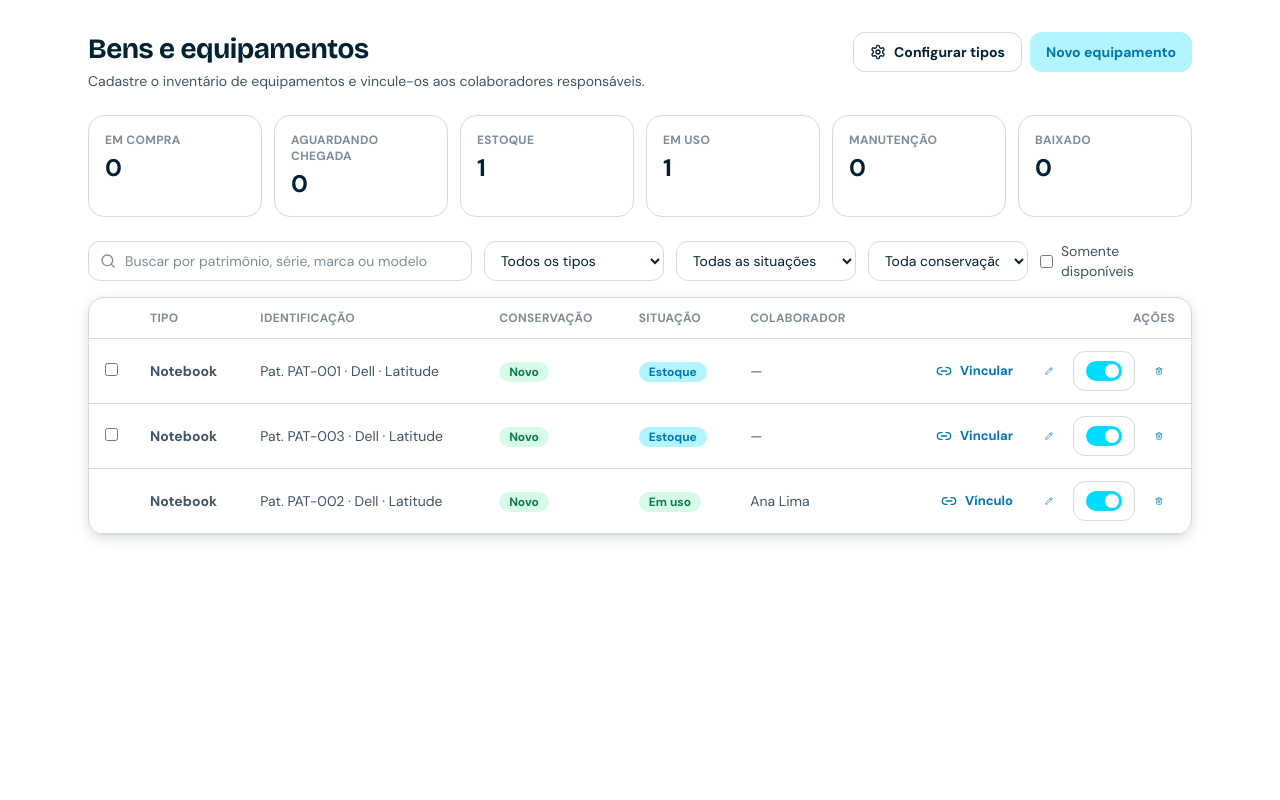
Scenario: PatrimonioPage › vincula vários equipamentos selecionados de uma vez com um único termo
The width and height of the screenshot is (1280, 800).
Click the checkbox named "Selecionar Notebook" in the row of "Pat. PAT-001 · Dell · Latitude" at point(112, 370), box [105,363,118,376]
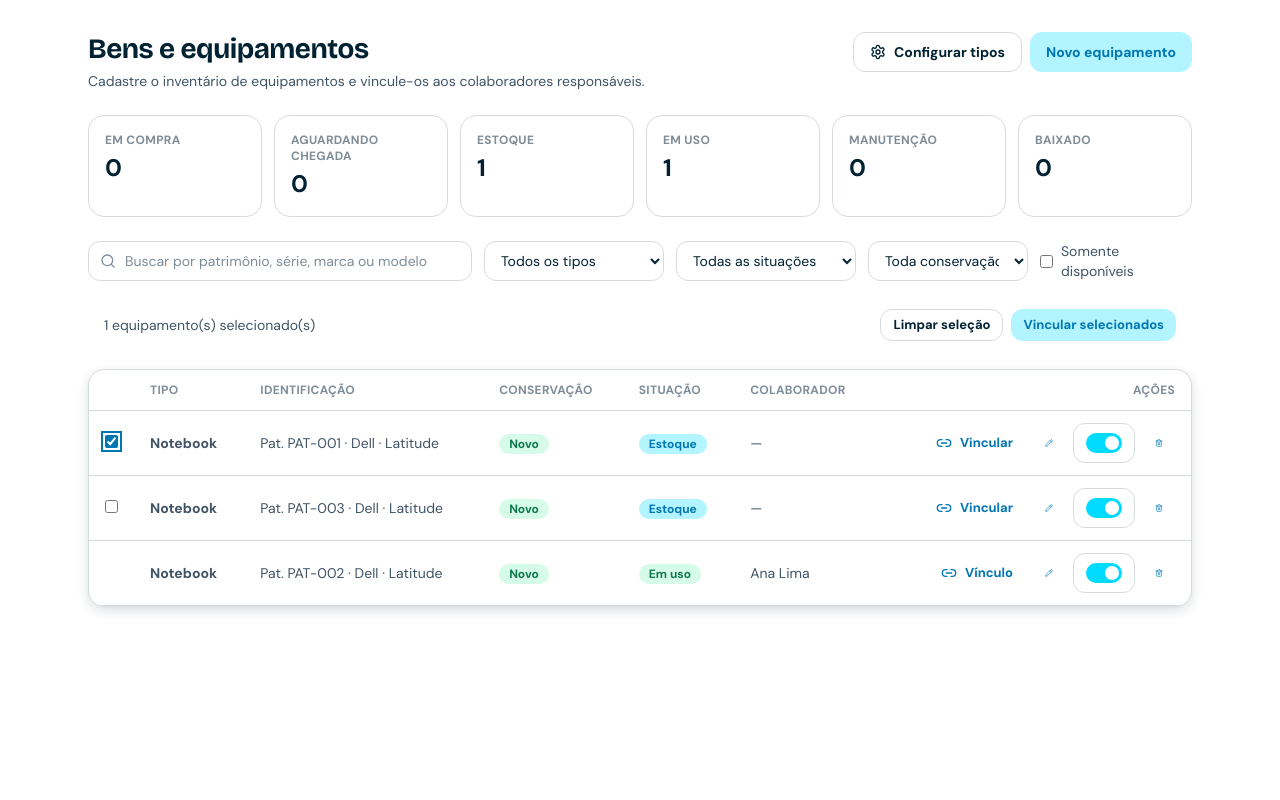
Click the checkbox named "Selecionar Notebook" in the row of "Pat. PAT-003 · Dell · Latitude" at point(112, 506), box [105,500,118,513]
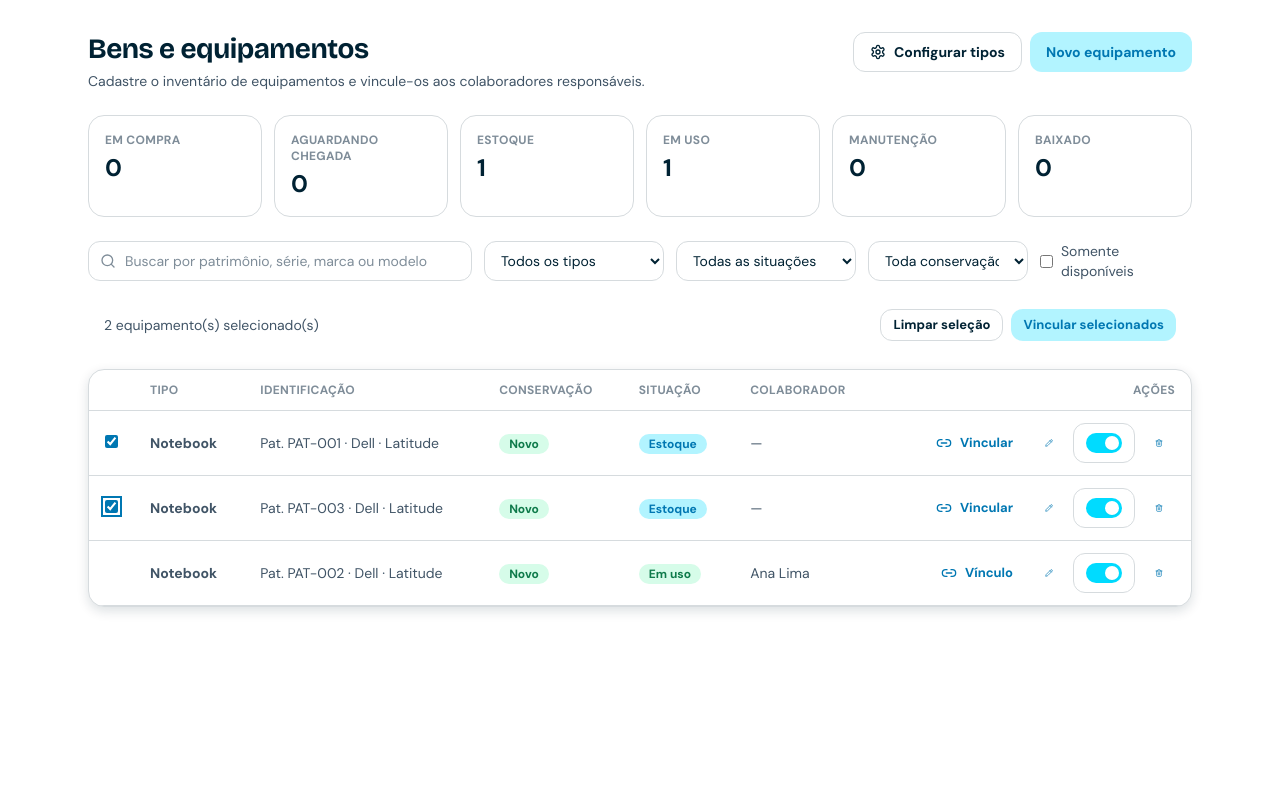
Click the button "Vincular selecionados" at point(1094, 325), box [1012,309,1176,341]
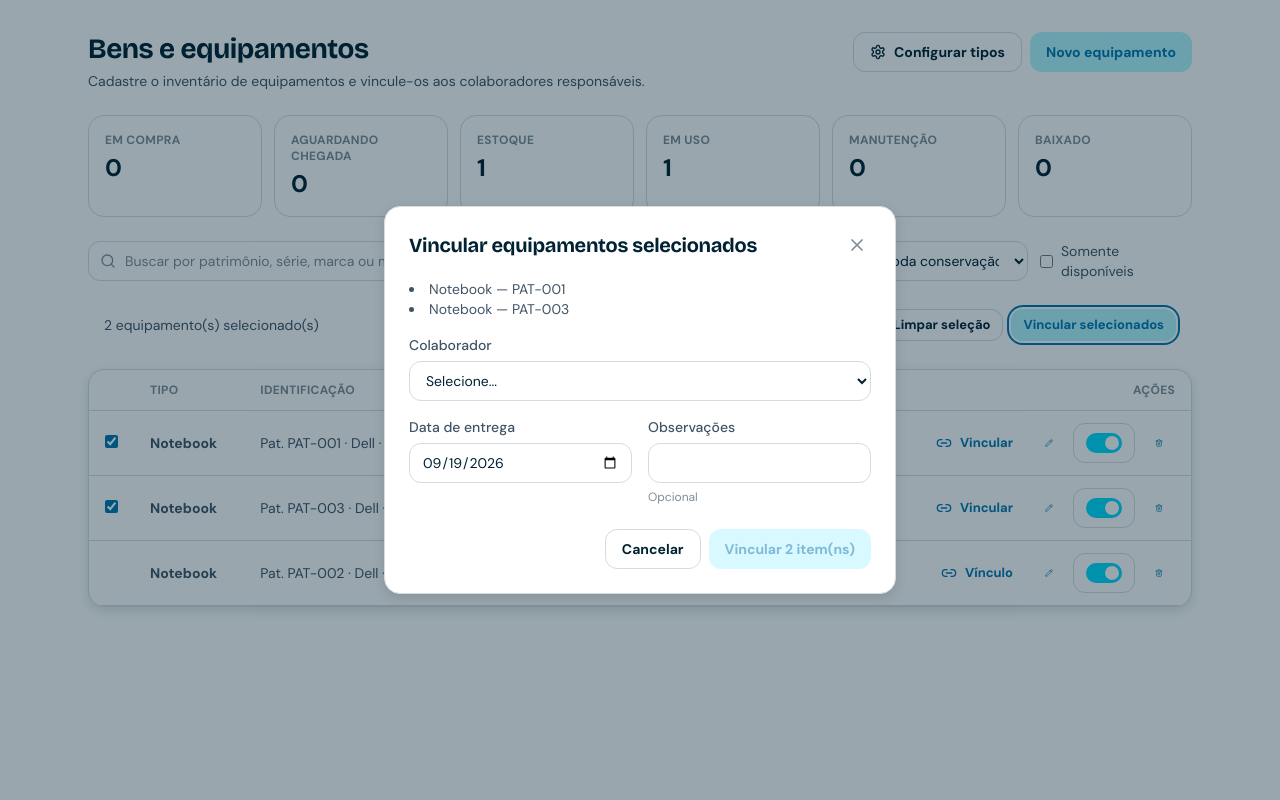
Select "Ana Lima" in the dropdown labelled "Colaborador" at point(640, 381), box [409,361,871,401]
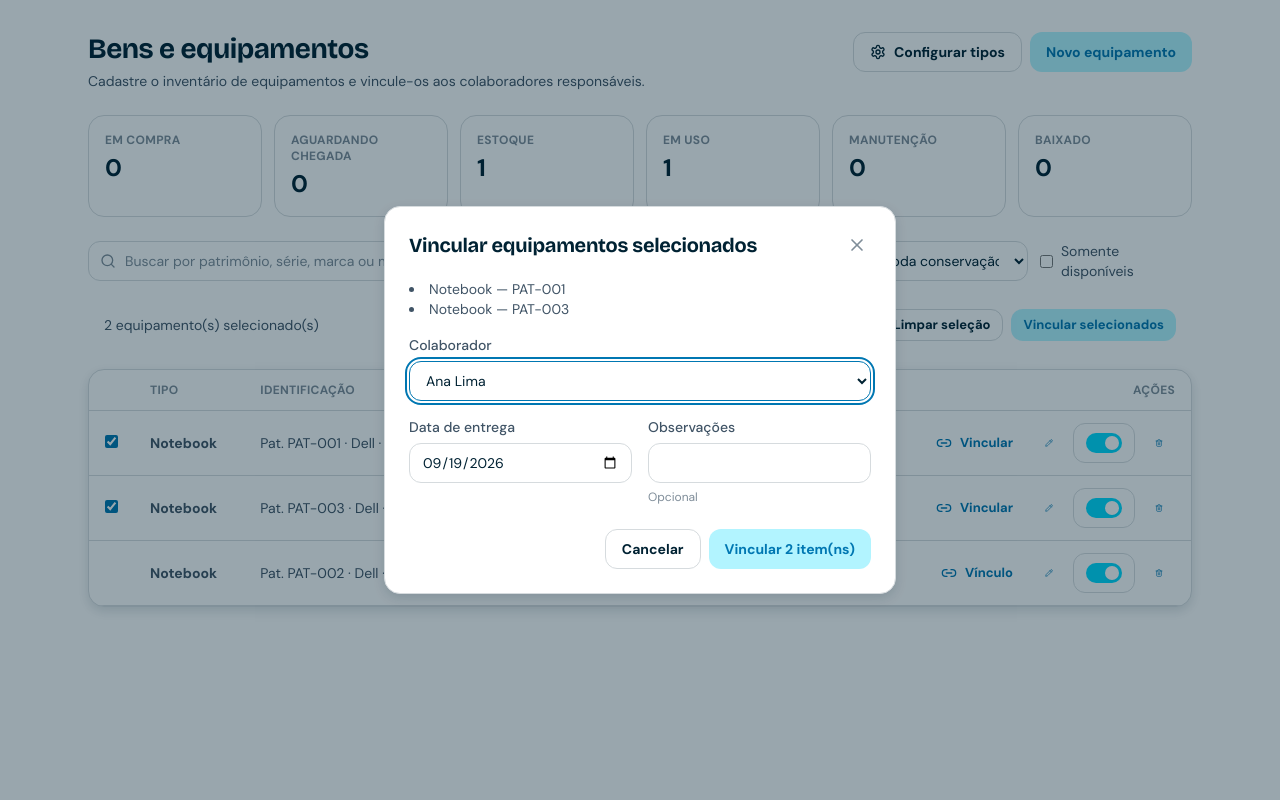
Click the button "Vincular 2 item(ns)" at point(790, 549), box [709,529,871,569]
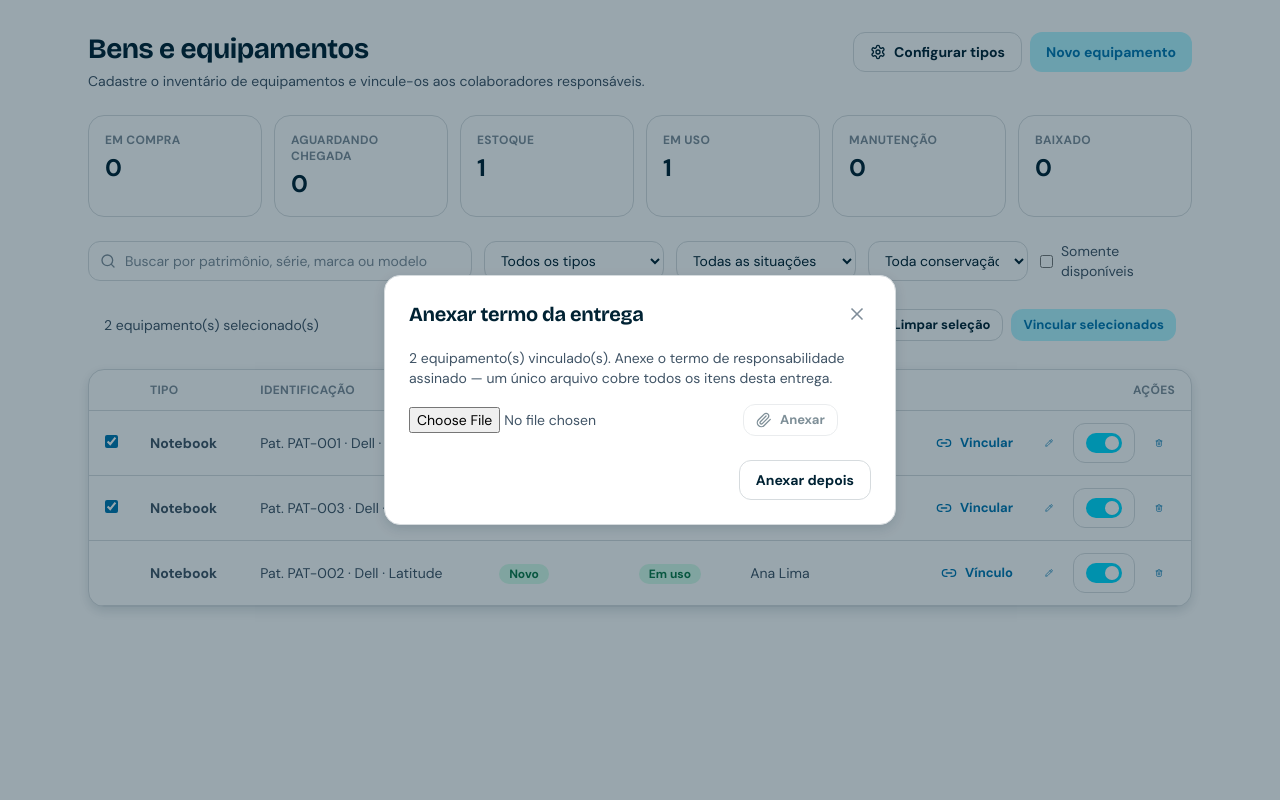
Now the text "equipamento(s) vinculado(s)" is shown, box [409,349,845,387]
